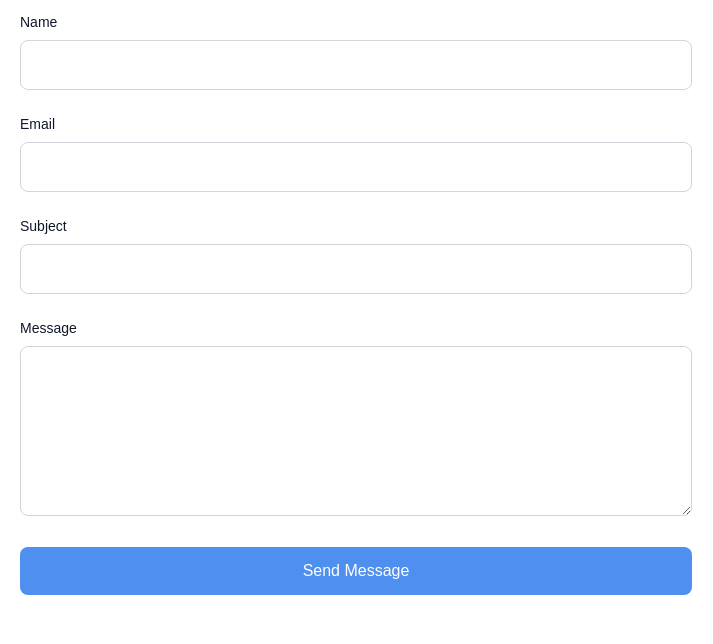
ContactForm Unit Tests › Form Validation › should display validation error for short message
Step 1. Type "Short" into the text box labelled "Message" → {"x": 356, "y": 431}, box [20,346,692,516]
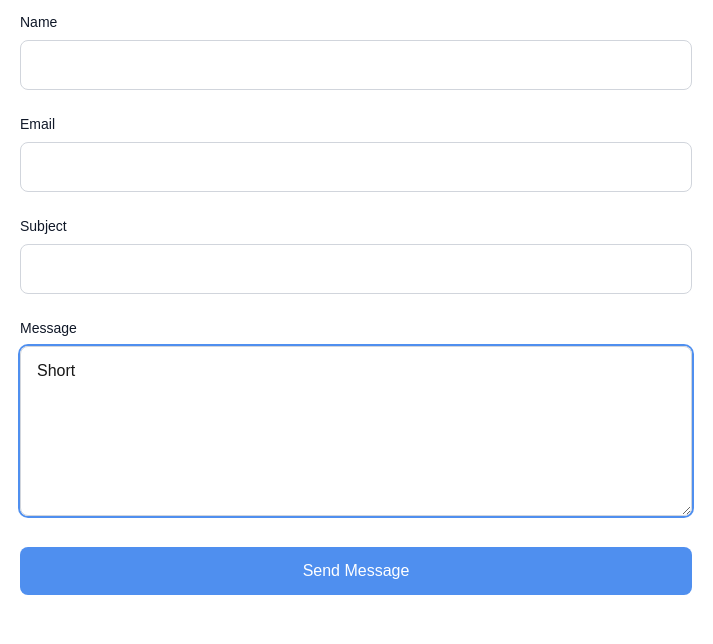
Step 2. Press Tab
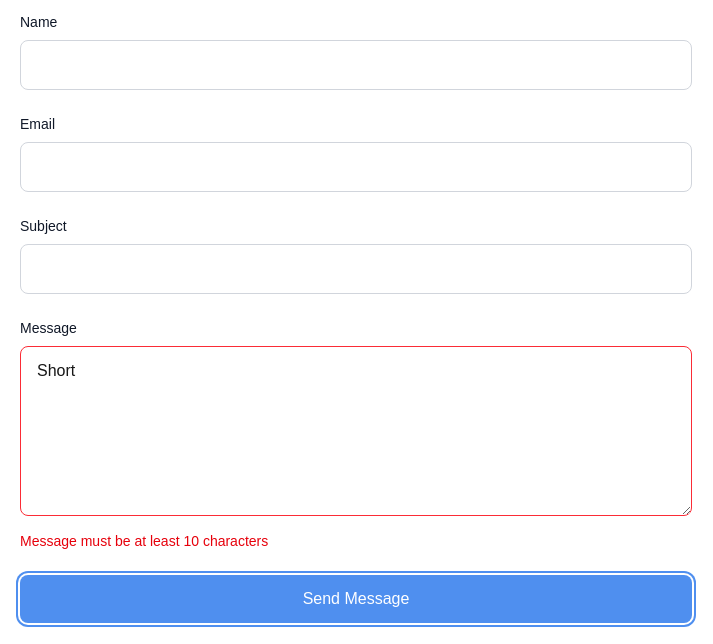
Check: the text "Message must be at least 10 characters" is shown, box [20,533,268,549]
